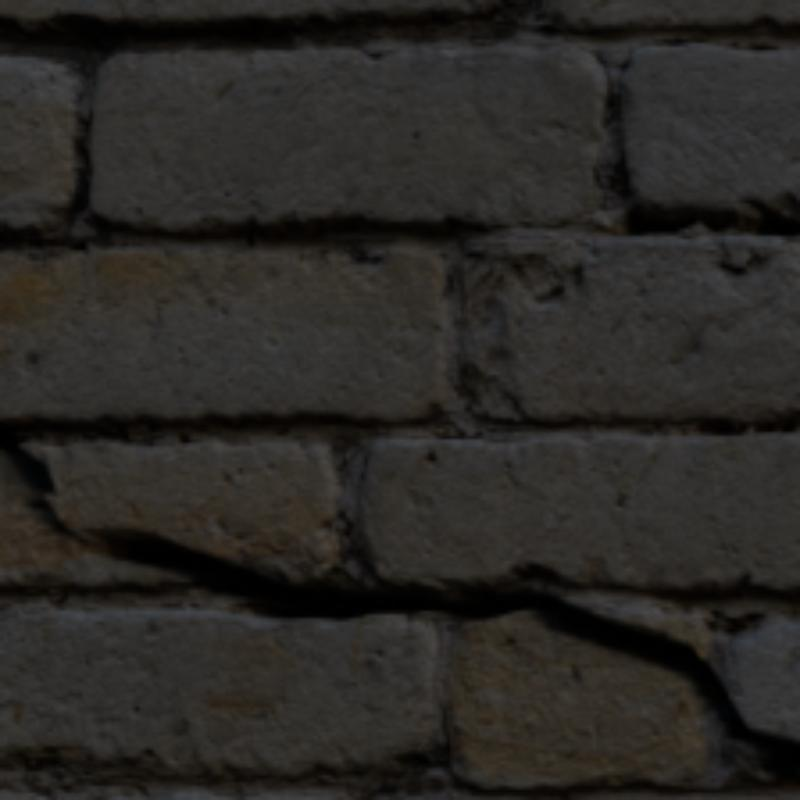pothole: (0, 421, 796, 782)
